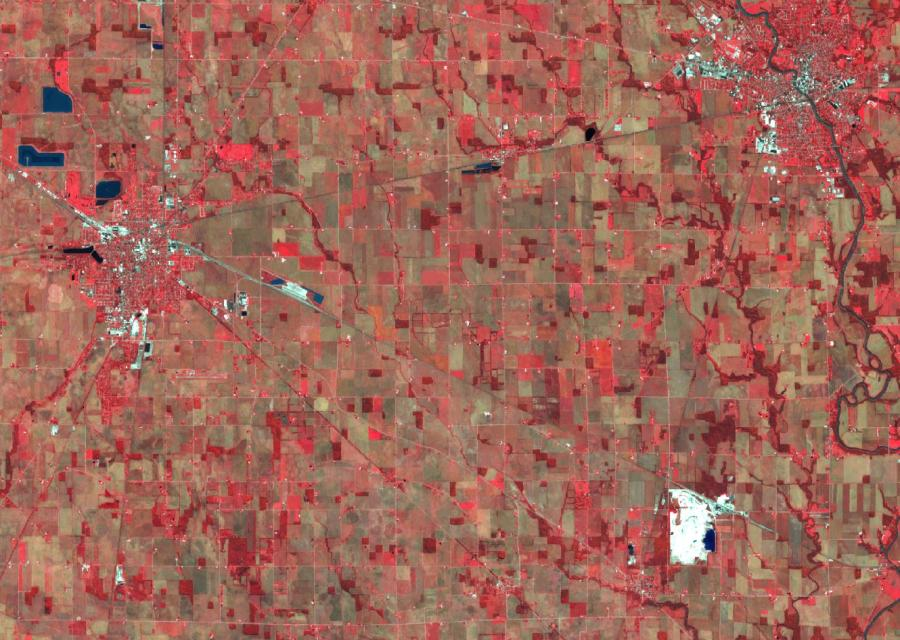Potential Lime Manufacturing Facility: (669, 486, 742, 568)
